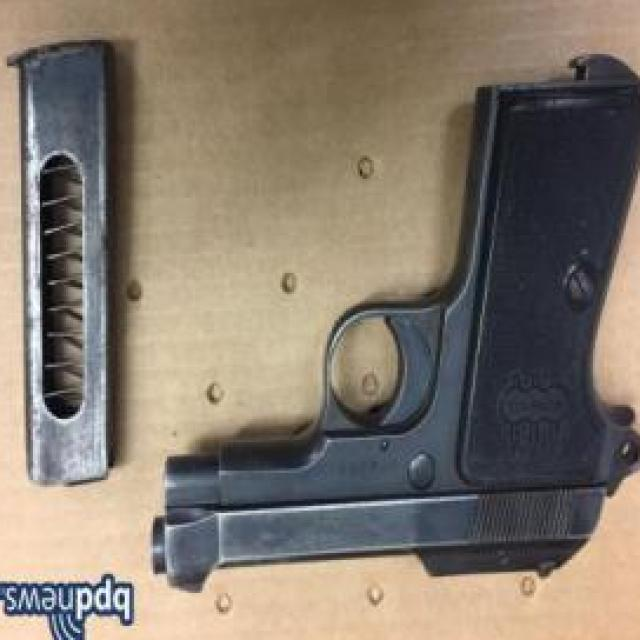pistol: (151, 55, 640, 591)
